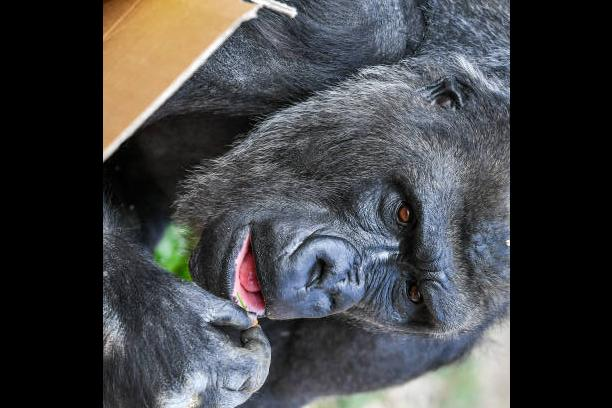gorille_Autres: (117, 32, 510, 408)
